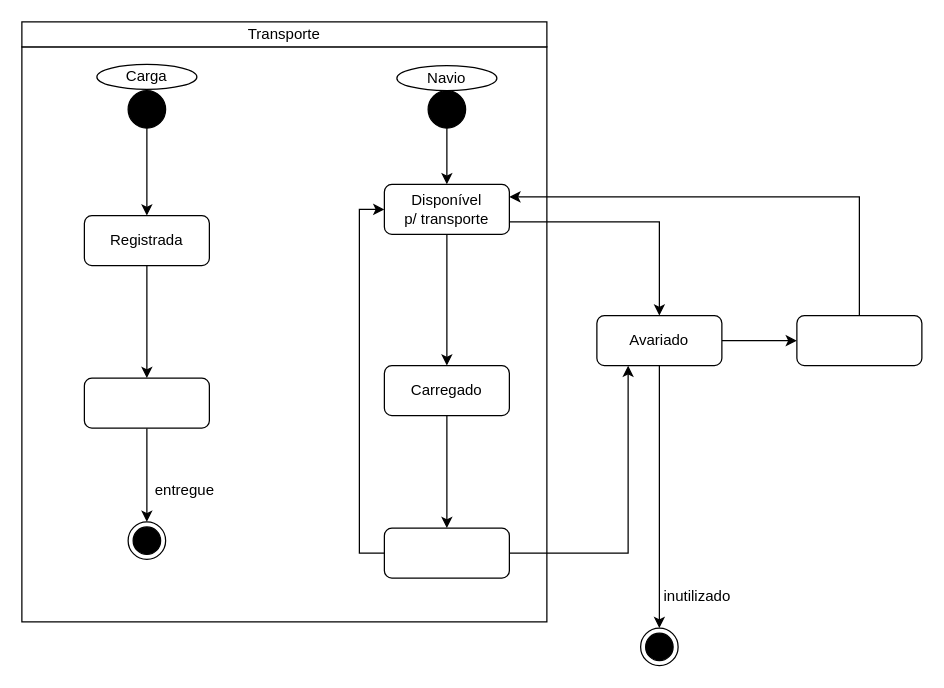
Some shapes in this 944 by 688 pixel diagram are drawn without their labels. The centre of each missing label's shape, as x and y in pixels:
"Em manutenção" goes at point (859, 340).
"Embarcada" goes at point (146, 402).
"À caminho" goes at point (446, 552).
